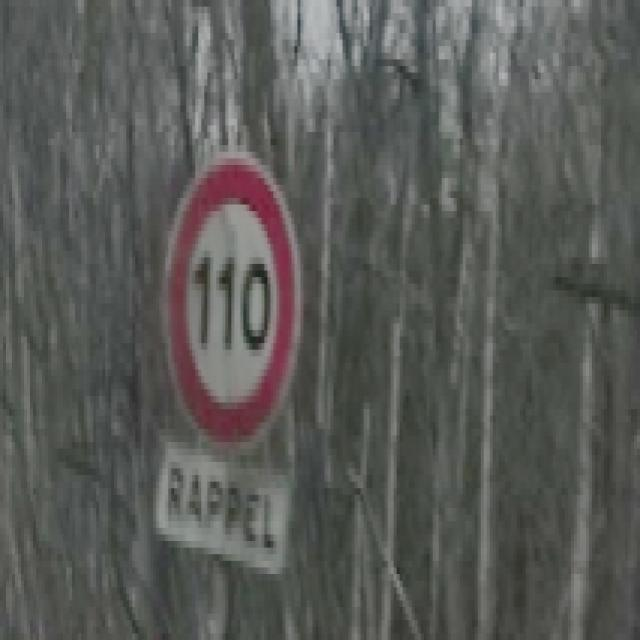speed_110: (160, 147, 305, 467)
